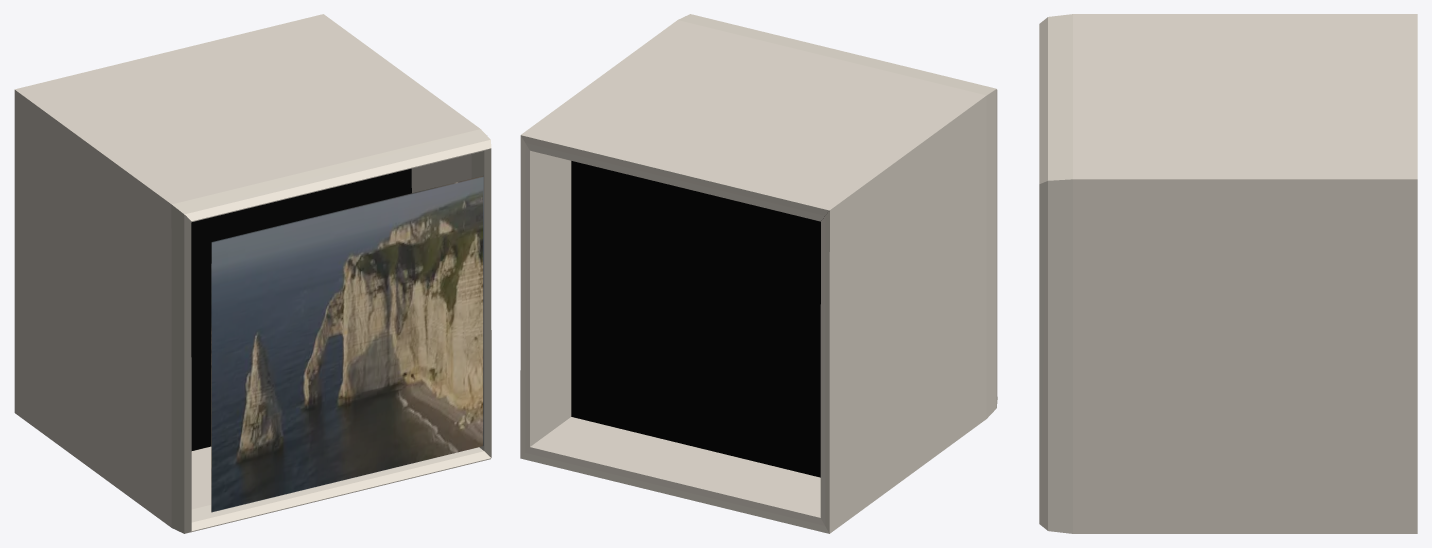
The model's file is sh-contrib-etretat-frame.glb.
The picture shows the model from 3 angles, left to right: view 1: azimuth 30°, elevation 25°; view 2: azimuth 150°, elevation 25°; view 3: azimuth 270°, elevation 25°; orthographic projection. The views are drawn at different scales.
Parts seen in each view (by area): view 1: MetalFrame_Cylinder_Aluminium.003, Photo_Cube_Material_Etretat, Frame_Black_Material.004; view 2: MetalFrame_Cylinder_Aluminium.003, Frame_Black_Material.004; view 3: MetalFrame_Cylinder_Aluminium.003.
Part boxes in pixels (x1,y1,x2,y2): MetalFrame_Cylinder_Aluminium.003: (14,14,491,533); Photo_Cube_Material_Etretat: (211,176,483,512); Frame_Black_Material.004: (185,168,411,450); MetalFrame_Cylinder_Aluminium.003: (520,14,997,533); Frame_Black_Material.004: (571,161,824,477); MetalFrame_Cylinder_Aluminium.003: (1039,14,1417,533).
Size of the model in its own units: 1 by 1 by 1.
Materials: 3 (1 with a texture image).
